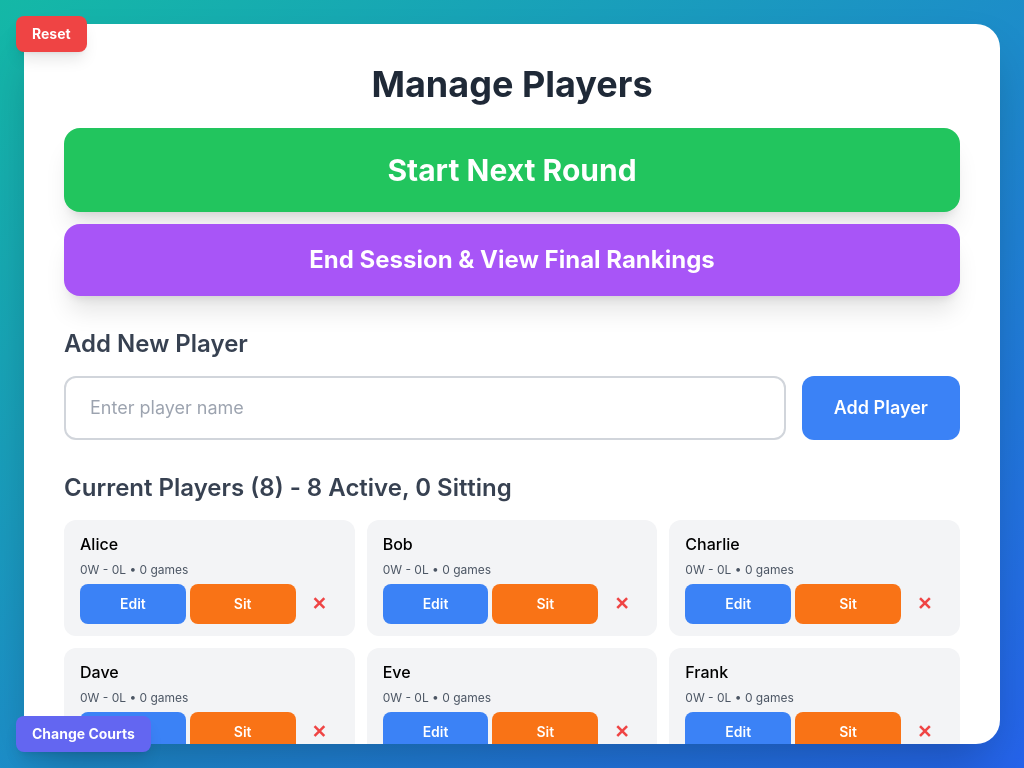
Test: PlayerManager › Court Selector › toggles court selector visibility
# Click to show
Step 1. Click the button "Change Courts" → (83, 734), box [16,716,151,752]
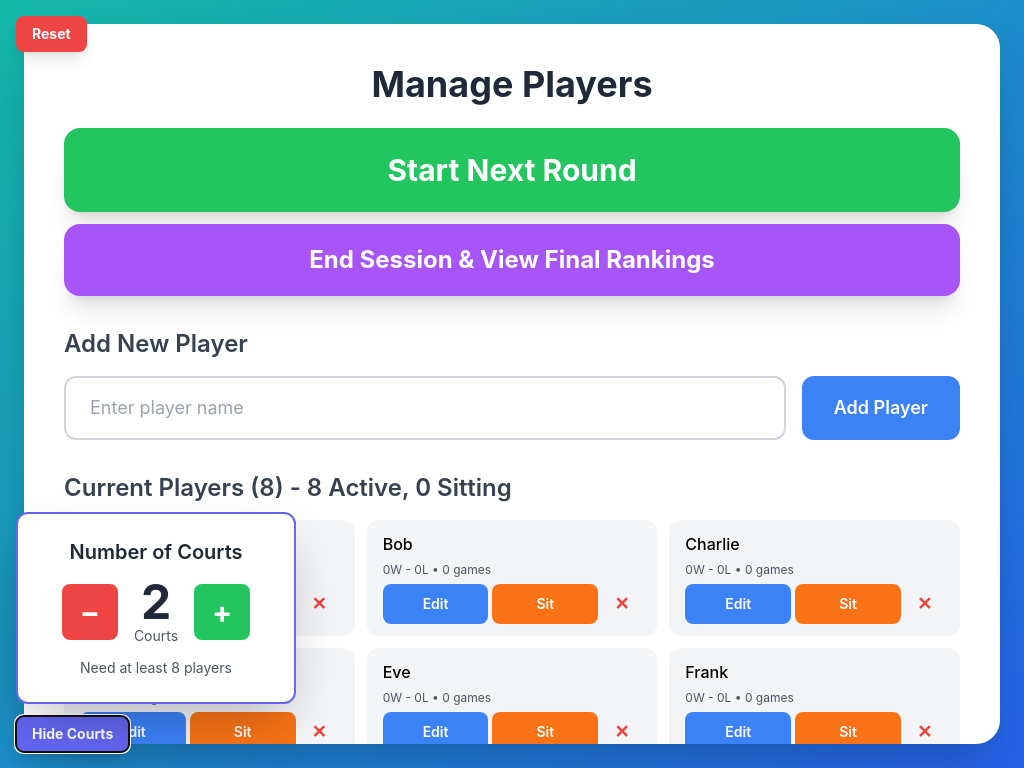
Expected: the heading "Number of Courts" is shown, [70,540,243,564]
# Click to hide
Step 2. Click the button "Hide Courts" → (73, 734), box [16,716,129,752]
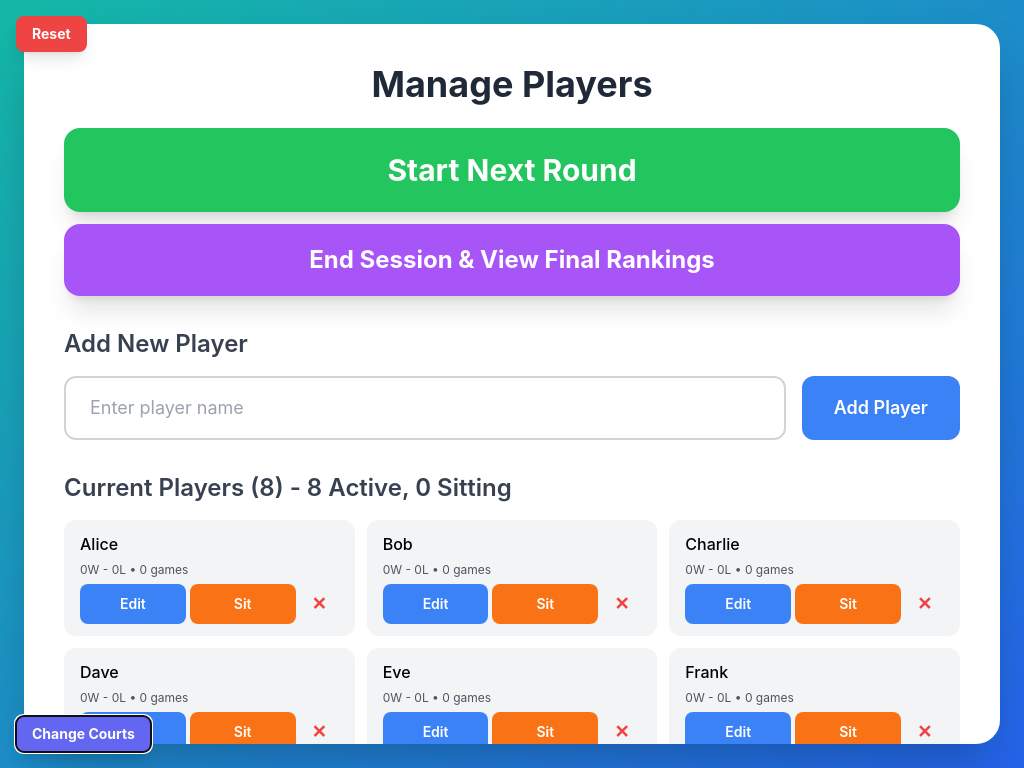
Expected: the heading "Number of Courts" is gone
